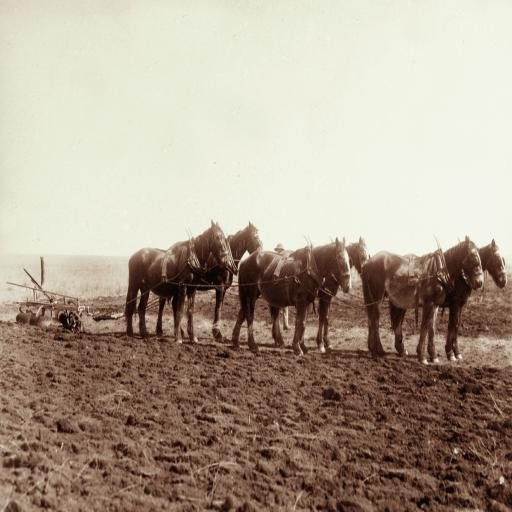horse: (360, 231, 486, 364), (230, 232, 353, 353), (388, 238, 508, 358), (123, 216, 232, 344), (154, 219, 262, 339), (268, 232, 370, 350)
